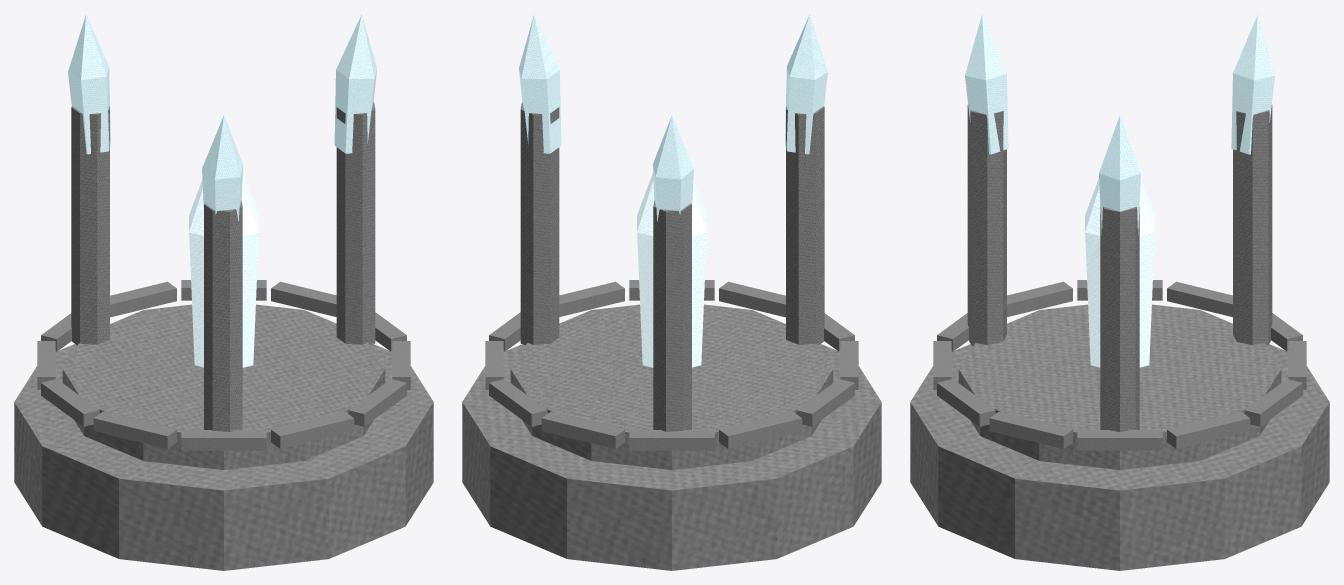
The model's file is seidr-ritual-focus.glb.
The picture shows the model from 3 angles, left to right: view 1: azimuth 30°, elevation 25°; view 2: azimuth 150°, elevation 25°; view 3: azimuth 270°, elevation 25°; orthographic projection.
Visible parts, largest first — view 1: ritual-base, rune-disk, ritual-pillar-0, ritual-pillar-1, ritual-pillar-2, ritual-heart, ritual-node-0, ritual-node-2, ritual-node-1, outer-runes-3, outer-runes-5, outer-runes-4 (+8 smaller); view 2: ritual-base, rune-disk, ritual-pillar-0, ritual-pillar-2, ritual-pillar-1, ritual-heart, ritual-node-0, ritual-node-1, ritual-node-2, outer-runes-7, outer-runes-9, outer-runes-8 (+8 smaller); view 3: ritual-base, rune-disk, ritual-pillar-0, ritual-pillar-1, ritual-pillar-2, ritual-heart, ritual-node-1, ritual-node-2, ritual-node-0, outer-runes-1, outer-runes-11, outer-runes-0 (+8 smaller).
Boxes of the visible parts, bbox=[...] form: ritual-base: bbox=[14, 344, 433, 570]; rune-disk: bbox=[62, 304, 385, 469]; ritual-pillar-0: bbox=[336, 102, 375, 345]; ritual-pillar-1: bbox=[204, 200, 242, 431]; ritual-pillar-2: bbox=[71, 106, 109, 345]; ritual-heart: bbox=[189, 173, 258, 367]; ritual-node-0: bbox=[334, 14, 376, 153]; ritual-node-2: bbox=[68, 14, 110, 154]; ritual-node-1: bbox=[202, 115, 243, 221]; outer-runes-3: bbox=[271, 411, 354, 448]; outer-runes-5: bbox=[93, 411, 176, 448]; outer-runes-4: bbox=[181, 430, 266, 450]; ritual-base: bbox=[462, 344, 881, 570]; rune-disk: bbox=[510, 304, 833, 469]; ritual-pillar-0: bbox=[520, 102, 559, 345]; ritual-pillar-2: bbox=[653, 200, 691, 431]; ritual-pillar-1: bbox=[786, 106, 824, 345]; ritual-heart: bbox=[637, 173, 706, 367]; ritual-node-0: bbox=[519, 14, 561, 153]; ritual-node-1: bbox=[785, 14, 827, 154]; ritual-node-2: bbox=[652, 115, 693, 221]; outer-runes-7: bbox=[719, 411, 802, 448]; outer-runes-9: bbox=[541, 411, 624, 448]; outer-runes-8: bbox=[629, 430, 714, 450]; ritual-base: bbox=[910, 344, 1329, 570]; rune-disk: bbox=[958, 304, 1281, 469]; ritual-pillar-0: bbox=[1100, 206, 1139, 432]; ritual-pillar-1: bbox=[967, 104, 1006, 345]; ritual-pillar-2: bbox=[1233, 104, 1272, 345]; ritual-heart: bbox=[1085, 178, 1154, 367]; ritual-node-1: bbox=[965, 14, 1008, 154]; ritual-node-2: bbox=[1231, 14, 1274, 154]; ritual-node-0: bbox=[1099, 115, 1140, 234]; outer-runes-1: bbox=[989, 411, 1072, 448]; outer-runes-11: bbox=[1167, 411, 1250, 448]; outer-runes-0: bbox=[1077, 430, 1162, 450].
Bounding box in the file's own units: 1.04 × 1.19 × 1.04.
Materials: 5 (5 with a texture image).
